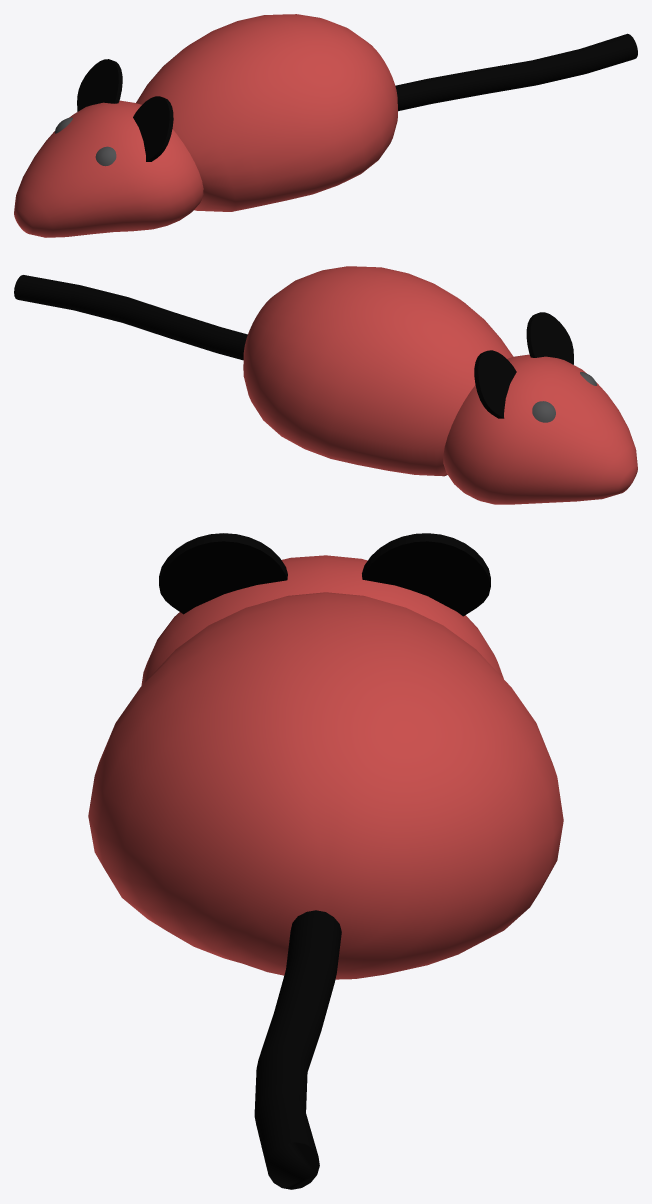
Rendered from Rato.fbx.
3 views of the same model, one above another, from view 1: azimuth 30°, elevation 25°; view 2: azimuth 150°, elevation 25°; view 3: azimuth 270°, elevation 25° (orthographic). The views are drawn at different scales.
Parts seen in each view (by area): view 1: Sphere, Cylinder, Circle, Circle.001, strap.002; view 2: Sphere, Cylinder, Circle.001, Circle, strap.004; view 3: Sphere, Cylinder, Circle.001, Circle.
Part boxes in pixels (<box>): Sphere: <box>14,14,397,237</box>; Cylinder: <box>395,33,637,111</box>; Circle: <box>133,96,173,161</box>; Circle.001: <box>77,59,122,111</box>; strap.002: <box>95,146,116,166</box>; Sphere: <box>243,266,637,504</box>; Cylinder: <box>14,275,247,360</box>; Circle.001: <box>474,350,516,418</box>; Circle: <box>526,312,573,364</box>; strap.004: <box>532,401,555,422</box>; Sphere: <box>88,555,563,979</box>; Cylinder: <box>254,910,341,1189</box>; Circle.001: <box>362,533,490,616</box>; Circle: <box>159,533,287,614</box>.
Size of the model in its own units: 657 by 169 by 224.
